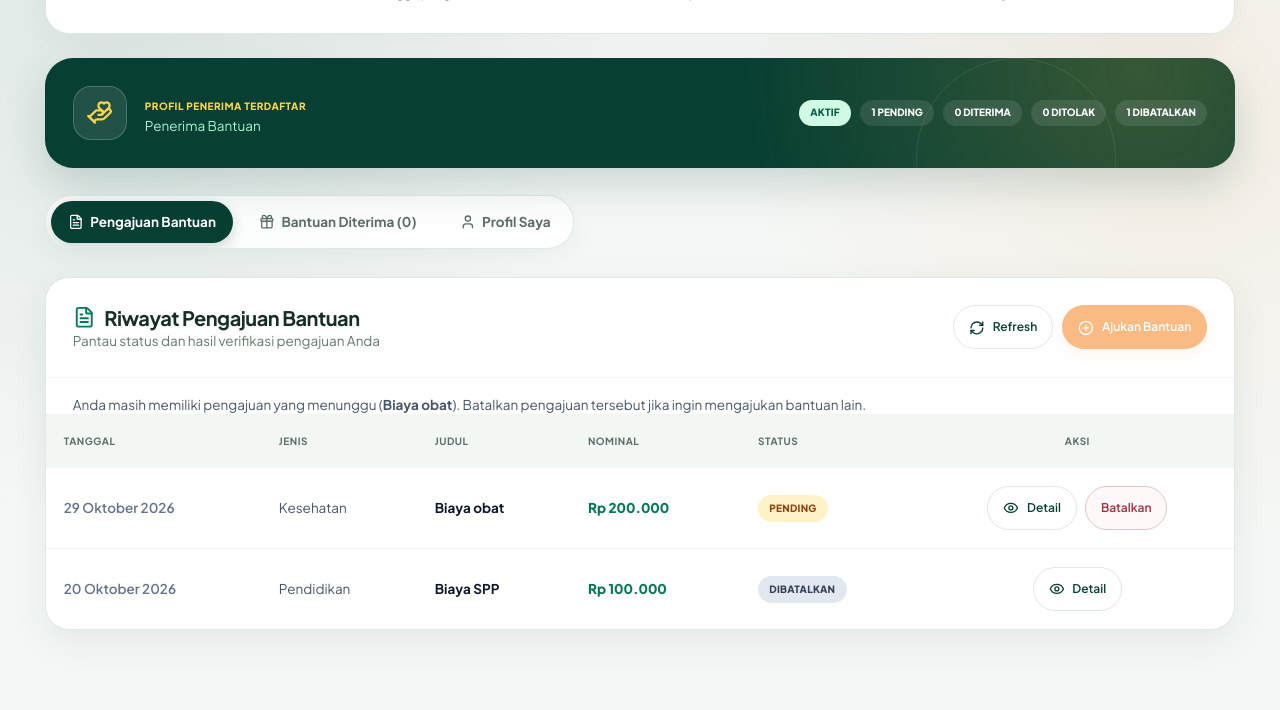
bagian atas hanya menampilkan alur terbaru dan riwayat lama tetap dapat dibuka
The width and height of the screenshot is (1280, 710).
(page scrolled)
What coordinates should you click on to do the following:
click the 2nd button "Detail"
I would click on:
 (1077, 589)
Its box is [1033,567,1122,611].
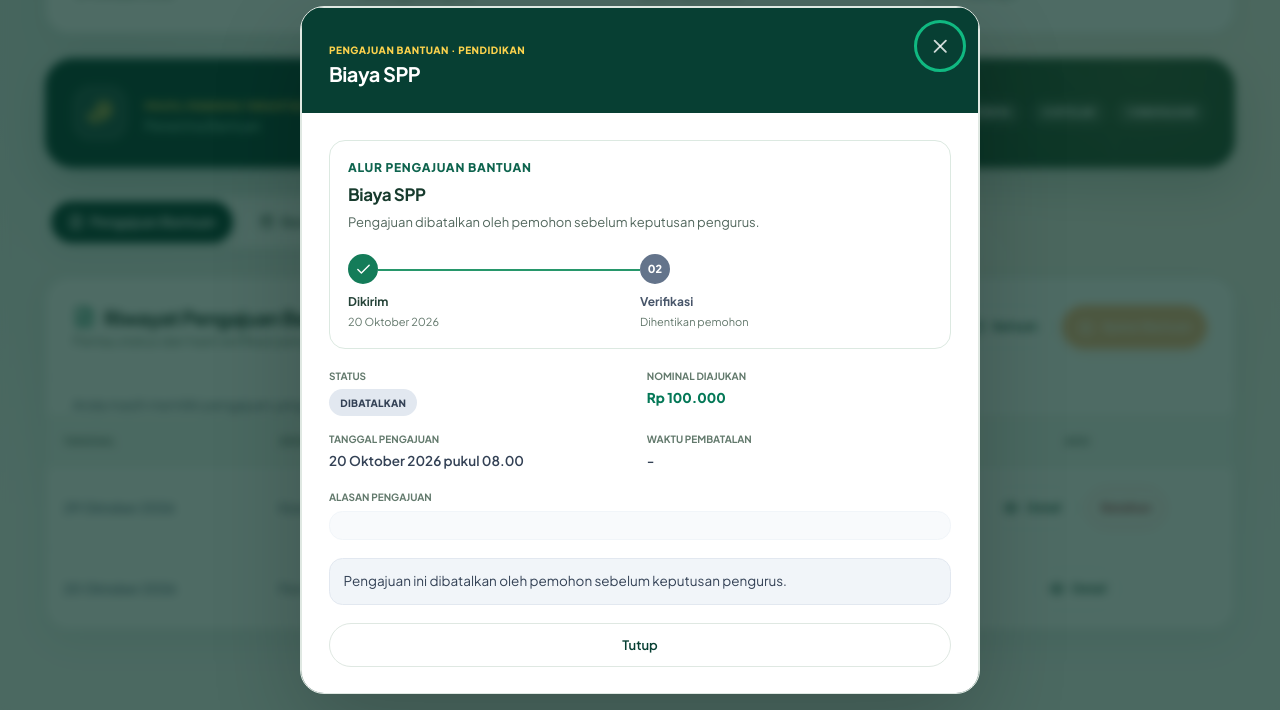
Check: the element named "Alur pengajuan Biaya SPP" is shown, box [329,140,951,349]
